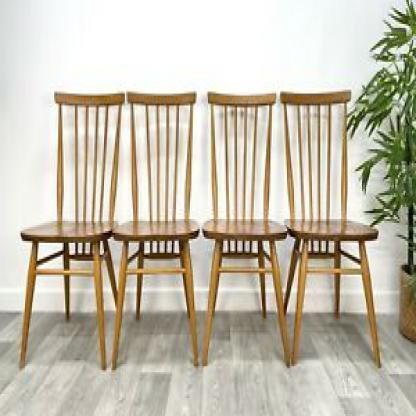chair: (283, 71, 382, 374), (16, 83, 116, 374), (111, 79, 201, 379), (201, 77, 286, 386)
